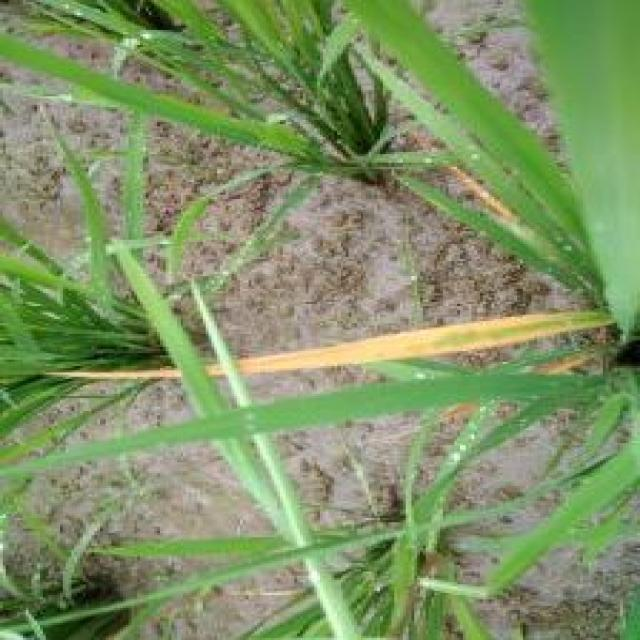Rice Tungro: (237, 320, 543, 371)
